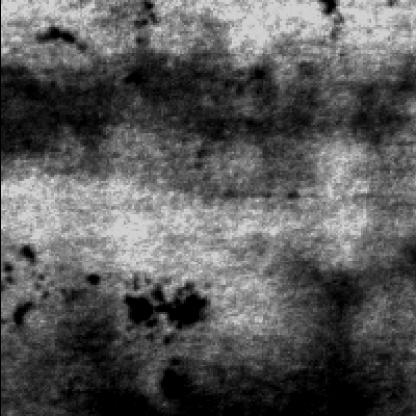inclusion: (118, 281, 204, 331), (23, 10, 87, 54), (146, 356, 200, 402)
patches: (0, 41, 318, 168), (208, 254, 382, 414), (42, 268, 130, 414), (312, 45, 414, 146)
